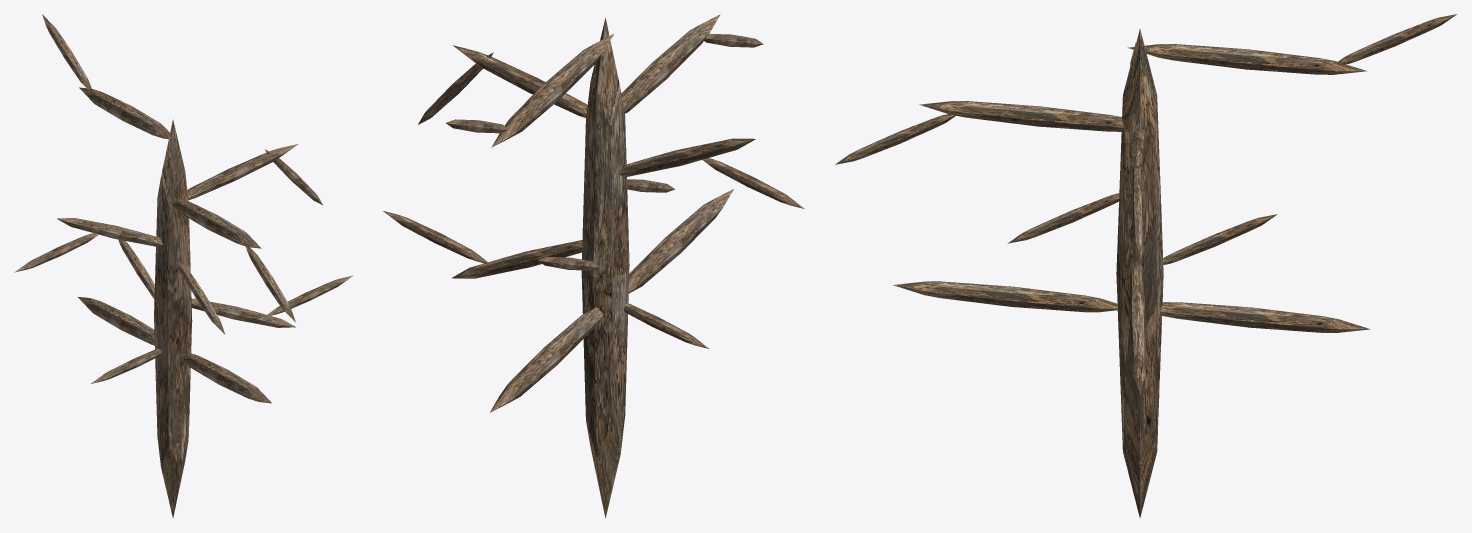
Rendered from Tree.fbx.
3 views of the same model, side by side, from view 1: azimuth 30°, elevation 25°; view 2: azimuth 150°, elevation 25°; view 3: azimuth 270°, elevation 25° (orthographic). The views are drawn at different scales.
Visible parts, largest first — view 1: Cube; view 2: Cube; view 3: Cube.
Part boxes in pixels (left/top/right/bottom): Cube: left=14, top=14, right=352, bottom=518; Cube: left=383, top=14, right=804, bottom=518; Cube: left=835, top=14, right=1456, bottom=518.
Size of the model in its own units: 1703 by 1976 by 2214.
1 material, 1 textured.
